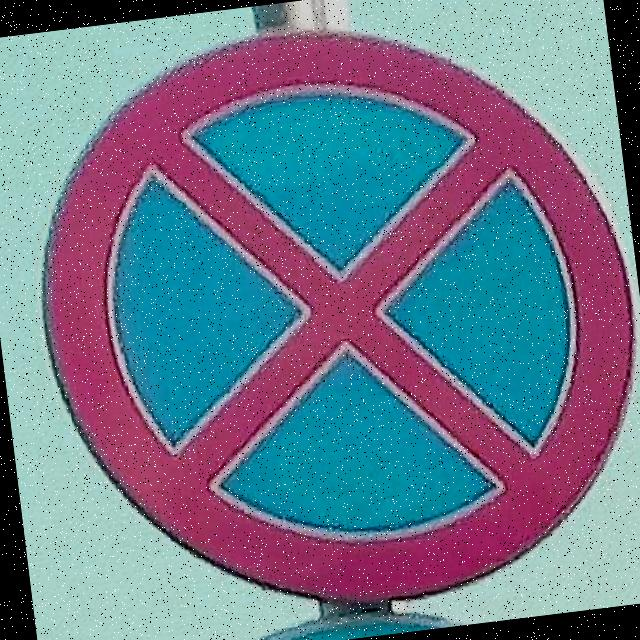Zakaz zatrzymywania sie: (12, 0, 640, 639)
